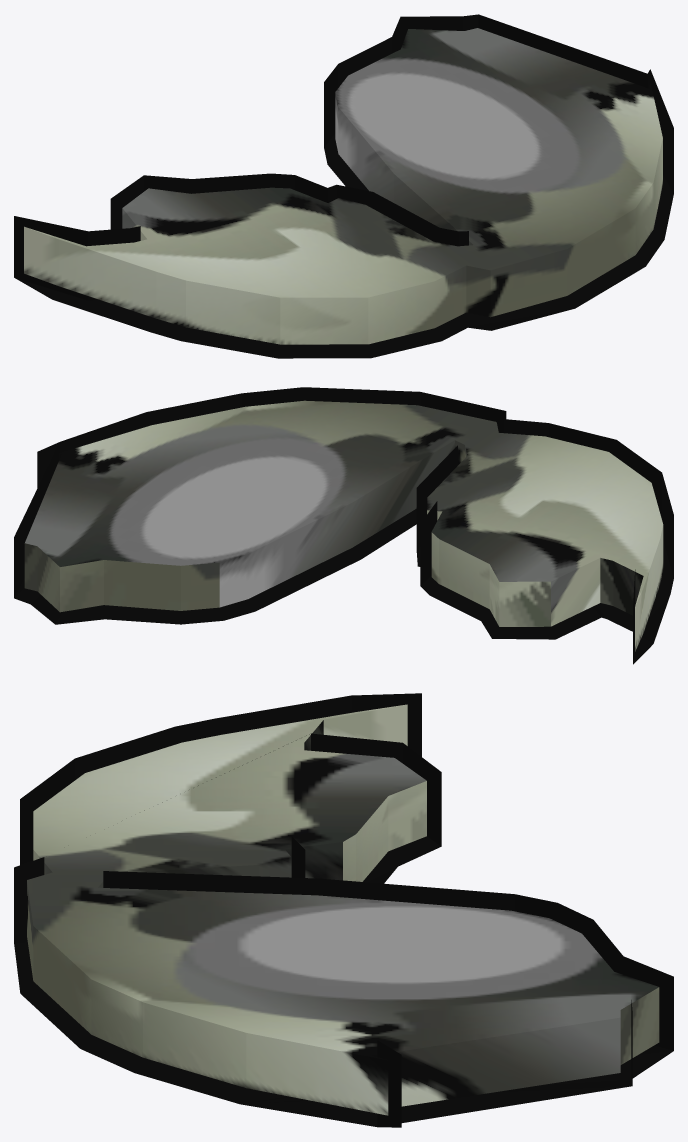
Rendered from Building_AncientExostriderLeg_Things_Building_Ruins_AncientExostrider_AncientExostriderLeg_ExostriderLegC.glb.
The picture shows the model from 3 angles, top to bottom: view 1: azimuth 30°, elevation 25°; view 2: azimuth 150°, elevation 25°; view 3: azimuth 270°, elevation 25°; orthographic projection. The views are drawn at different scales.
Visible parts, largest first — view 1: Body, Outline; view 2: Body, Outline; view 3: Body, Outline.
Part boxes in pixels (bbox=[...]): Body: bbox=[24, 28, 662, 344]; Outline: bbox=[14, 14, 673, 358]; Body: bbox=[24, 400, 663, 651]; Outline: bbox=[14, 387, 673, 664]; Body: bbox=[27, 704, 659, 1115]; Outline: bbox=[14, 693, 673, 1127].
Bounding box in the file's own units: 1.85 × 0.2074 × 1.43.
2 materials, 1 textured.
